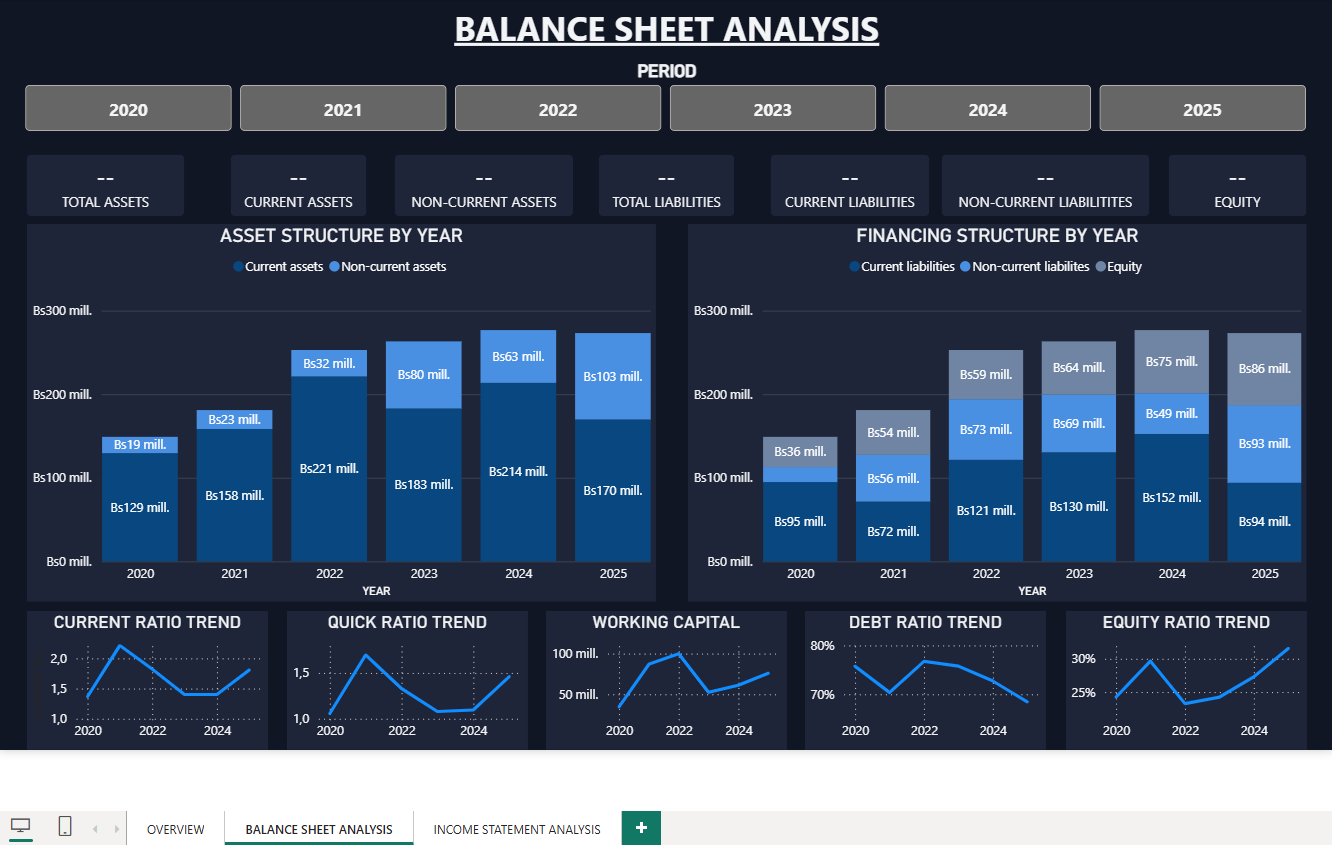

What the dashboard file says about the page in this screenshot:
{"tool":"powerbi","page":{"name":"BALANCE SHEET ANALYSIS","canvas":[1280,720],"ordinal":1},"visuals":[{"type":"cardVisual","fields":{"Data":["MEDIDAS.Total Activo Corriente"]},"box":[185,141.9,182.2,83.4],"z":0},{"type":"cardVisual","fields":{"Data":["MEDIDAS.Total Activo no Corriente"]},"box":[367.2,141.9,185,83.4],"z":1000},{"type":"cardVisual","fields":{"Data":["MEDIDAS.Current liabilities"]},"box":[727.7,141.9,178.3,83.4],"z":2000},{"type":"cardVisual","fields":{"Data":["MEDIDAS.Non-current liabilites"]},"box":[906.1,141.9,199.4,83.4],"z":3000},{"type":"cardVisual","fields":{"Data":["MEDIDAS.Equity"]},"box":[1105.5,141.9,174.5,83.4],"z":4000},{"type":"cardVisual","fields":{"Data":["MEDIDAS.Total Activo"]},"box":[0,141.9,185,83.4],"z":5000},{"type":"cardVisual","fields":{"Data":["MEDIDAS.Total pasivo"]},"box":[552.3,141.9,182.2,83.4],"z":6000},{"type":"columnChart","title":"FINANCING STRUCTURE BY YEAR","fields":{"Category":["DimFecha.Año"],"Y":["MEDIDAS.Current liabilities","MEDIDAS.Non-current liabilites","MEDIDAS.Equity"]},"box":[646.2,243.5,625.1,334.6],"z":7000},{"type":"columnChart","title":"ASSET STRUCTURE BY YEAR","fields":{"Category":["DimFecha.Año"],"Y":["MEDIDAS.Total Activo Corriente","MEDIDAS.Total Activo no Corriente"]},"box":[6.7,243.5,625.1,334.6],"z":8000},{"type":"advancedSlicerVisual","title":"PERIOD","fields":{"Values":["DimFecha.Año"]},"box":[0,58.8,1280,73.5],"z":9000},{"type":"textbox","box":[0,0,418,58.5],"z":10000},{"type":"lineChart","title":"CURRENT RATIO TREND","fields":{"Category":["DimFecha.Año"],"Y":["DimCategoria.CURRENT RATIO TREND"]},"box":[26.8,586.8,231.1,133.3],"z":11000},{"type":"lineChart","title":"QUICK RATIO TREND","fields":{"Category":["DimFecha.Año"],"Y":["DimCategoria.QUICK RATIO TREND"]},"box":[276.1,586.8,231.1,133.3],"z":12000},{"type":"lineChart","title":"WORKING CAPITAL","fields":{"Category":["DimFecha.Año"],"Y":["MEDIDAS.Working capital"]},"box":[524.5,586.8,231.1,133.3],"z":13000},{"type":"lineChart","title":"DEBT RATIO TREND","fields":{"Category":["DimFecha.Año"],"Y":["DimCategoria.DEBT RATIO TREND"]},"box":[772.8,586.8,231.1,133.3],"z":14000},{"type":"lineChart","title":"EQUITY RATIO TREND","fields":{"Category":["DimFecha.Año"],"Y":["DimCategoria.EQUITY RATIO TREND"]},"box":[1023,586.8,231.1,133.3],"z":15000},{"type":"pageNavigator","box":[711.4,4.8,560.9,49.9],"z":16000}]}

Visuals, with their boxes on the page's 1280x720 design canvas (x1, y1, x2, y2). These are canvas units, not pixel positions in the 1332x845 screenshot, which may show the page scaled, cropped or inside an application window:
cardVisual - MEDIDAS.Total Activo Corriente: crop(185, 142, 367, 225)
cardVisual - MEDIDAS.Total Activo no Corriente: crop(367, 142, 552, 225)
cardVisual - MEDIDAS.Current liabilities: crop(728, 142, 906, 225)
cardVisual - MEDIDAS.Non-current liabilites: crop(906, 142, 1106, 225)
cardVisual - MEDIDAS.Equity: crop(1106, 142, 1280, 225)
cardVisual - MEDIDAS.Total Activo: crop(0, 142, 185, 225)
cardVisual - MEDIDAS.Total pasivo: crop(552, 142, 734, 225)
"FINANCING STRUCTURE BY YEAR" columnChart: crop(646, 244, 1271, 578)
"ASSET STRUCTURE BY YEAR" columnChart: crop(7, 244, 632, 578)
"PERIOD" advancedSlicerVisual: crop(0, 59, 1280, 132)
textbox: crop(0, 0, 418, 58)
"CURRENT RATIO TREND" lineChart: crop(27, 587, 258, 720)
"QUICK RATIO TREND" lineChart: crop(276, 587, 507, 720)
"WORKING CAPITAL" lineChart: crop(524, 587, 756, 720)
"DEBT RATIO TREND" lineChart: crop(773, 587, 1004, 720)
"EQUITY RATIO TREND" lineChart: crop(1023, 587, 1254, 720)
pageNavigator: crop(711, 5, 1272, 55)
